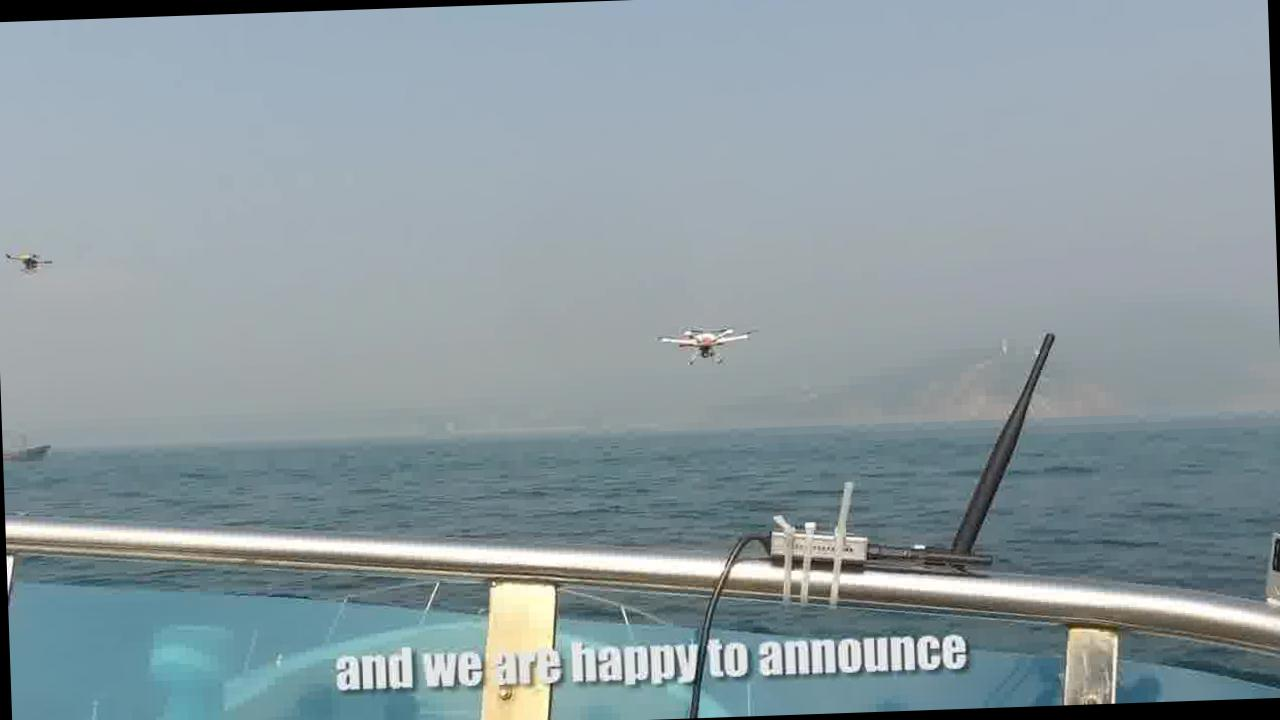drone: (654, 317, 756, 369), (2, 244, 56, 278)
